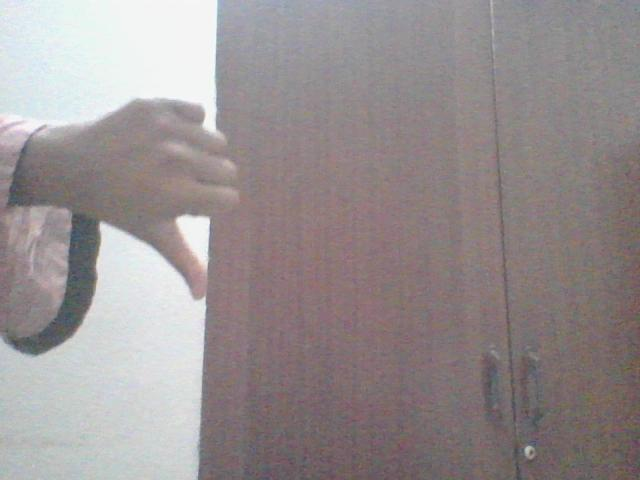thumbs-down: (112, 89, 245, 300)
